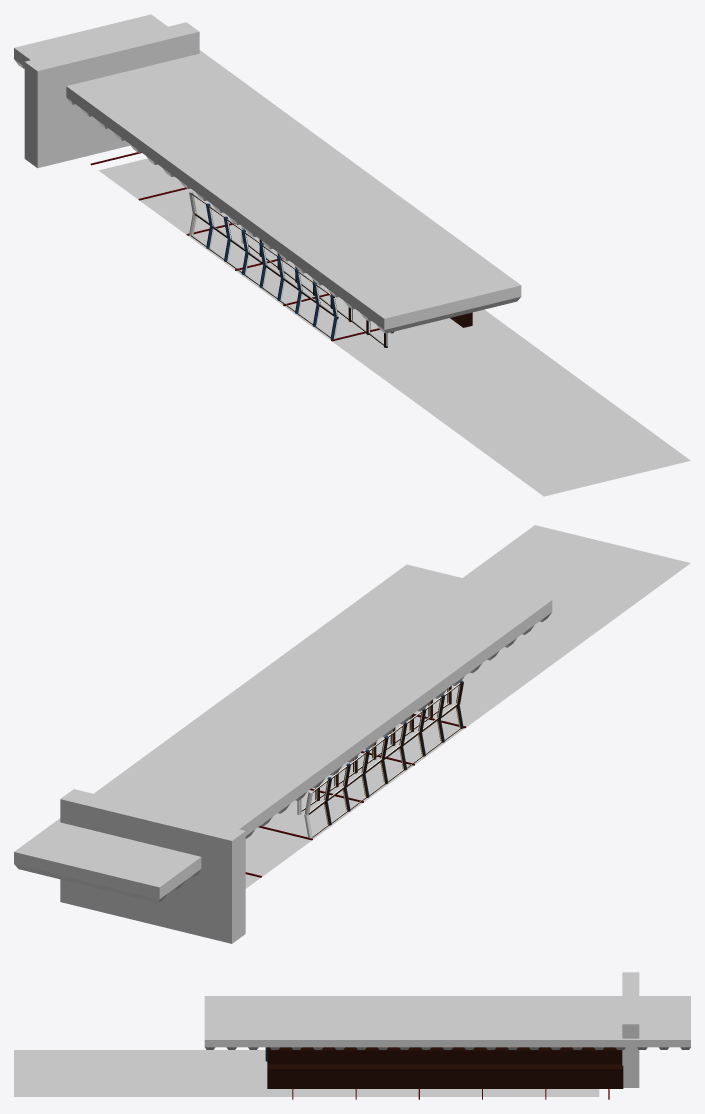
Rendered from Environment.FBX.
The picture shows the model from 3 angles, top to bottom: view 1: azimuth 30°, elevation 25°; view 2: azimuth 150°, elevation 25°; view 3: azimuth 270°, elevation 25°; orthographic projection. The views are drawn at different scales.
Parts seen in each view (by area): view 1: Box019, Ground, Box020; view 2: Box019, Ground, Box020; view 3: Box019, Ground, Box020, Box009, Box010, Box001, Box006, Box011, Box017, Box002, Box018, Box007 (+9 smaller).
Part boxes in pixels (box(x1,y1,x2,y2)): Box019: box(14, 14, 521, 333); Ground: box(98, 158, 690, 496); Box020: box(24, 22, 199, 168); Box019: box(14, 564, 552, 903); Ground: box(245, 525, 690, 888); Box020: box(60, 789, 245, 943); Box019: box(204, 996, 690, 1049); Ground: box(14, 1050, 599, 1096); Box020: box(622, 972, 639, 1087); Box009: box(425, 1047, 445, 1088); Box010: box(445, 1047, 465, 1088); Box001: box(267, 1047, 287, 1088); Box006: box(366, 1047, 386, 1088); Box011: box(465, 1047, 485, 1088); Box017: box(583, 1047, 603, 1088); Box002: box(287, 1047, 307, 1088); Box018: box(603, 1047, 623, 1088); Box007: box(386, 1047, 405, 1088).
Size of the model in its own units: 7373 by 3454 by 33132.
